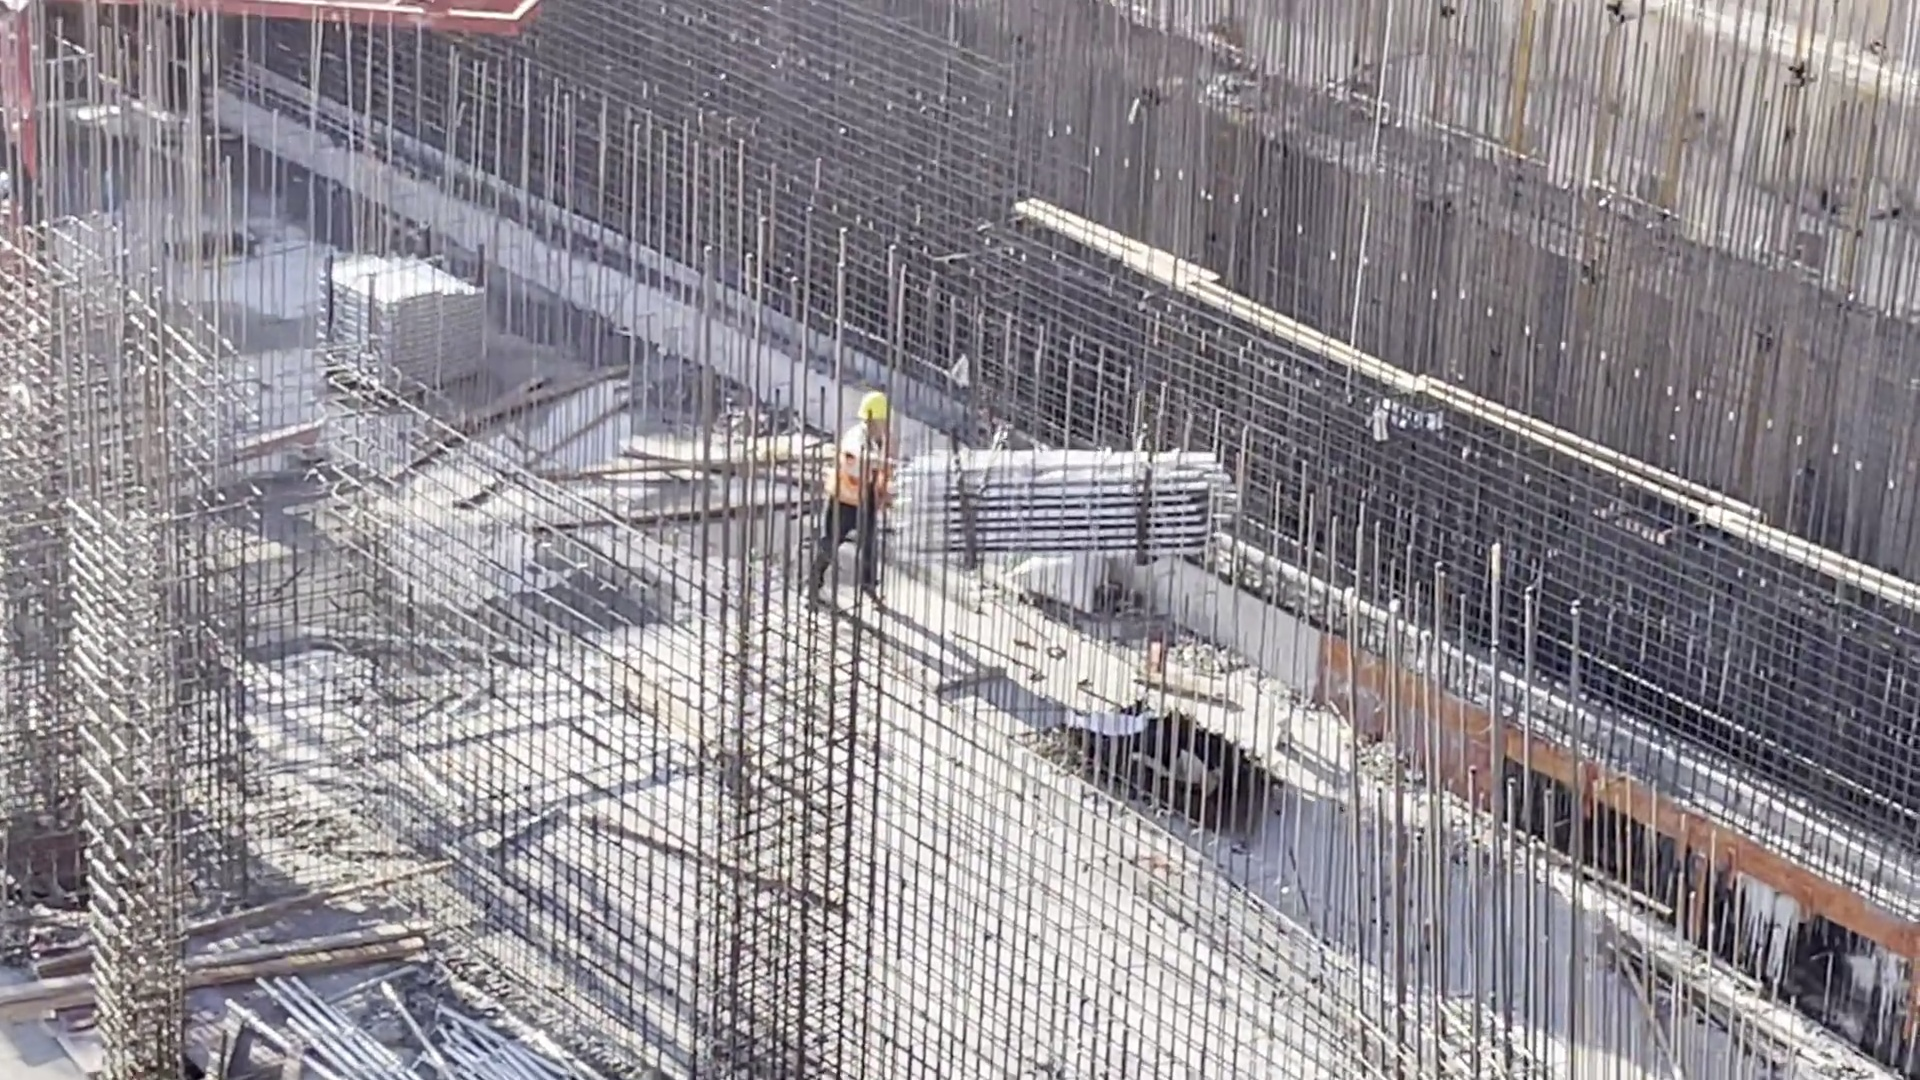helmet: (860, 387, 901, 423)
person: (828, 387, 901, 602)
scaffold: (269, 968, 559, 1080), (906, 456, 1234, 551), (332, 251, 502, 421)
vest: (834, 412, 891, 535)
